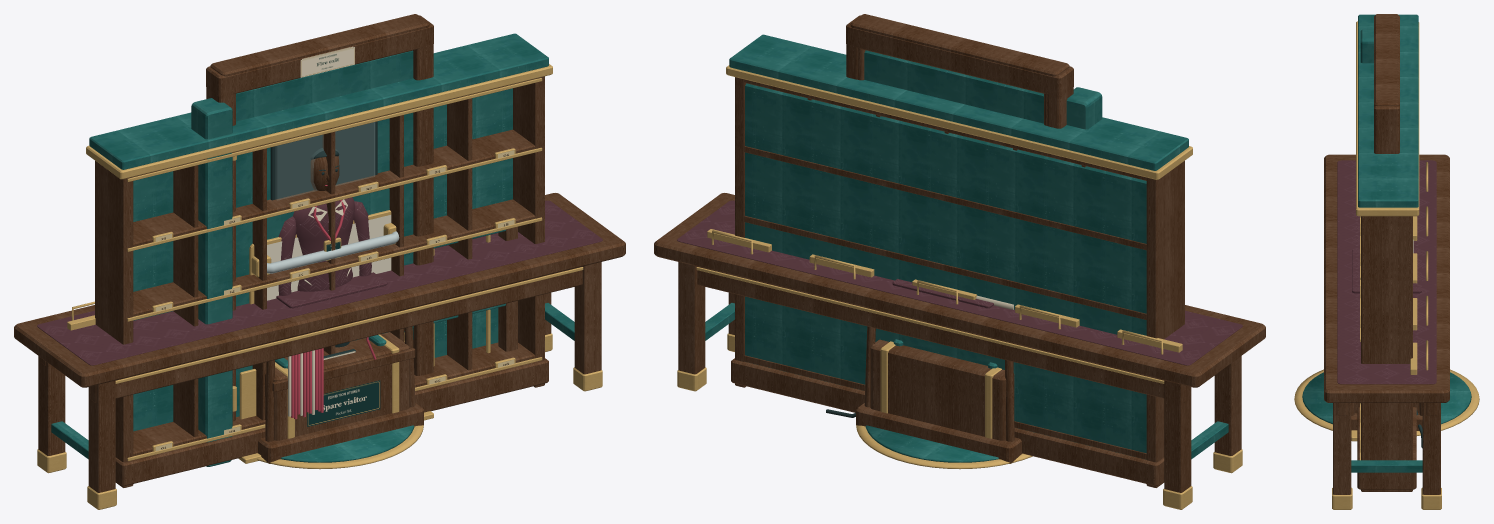
The model's file is visitor-services.glb.
The picture shows the model from 3 angles, left to right: view 1: azimuth 30°, elevation 25°; view 2: azimuth 150°, elevation 25°; view 3: azimuth 270°, elevation 25°; orthographic projection. The views are drawn at different scales.
Visible parts, largest first — view 1: annex_cabinet_body, annex_corrections_desk_body, annex_fire_exit_body, annex_keeper_door_body, annex_crate_body, annex_photo_visitor_body, annex_scarf_body, annex_judge_body, annex_agenda_body, annex_forum_leaf_body, judge_face, annex_display_stand_body (+1 smaller); view 2: annex_cabinet_body, annex_corrections_desk_body, annex_fire_exit_body, annex_crate_body, annex_keeper_door_body, annex_agenda_body, annex_judge_body, annex_scarf_body; view 3: annex_corrections_desk_body, annex_cabinet_body, annex_agenda_body, annex_keeper_door_body, annex_fire_exit_body, annex_display_stand_body.
Part boxes in pixels (box(x1,y1,x2,y2)): annex_cabinet_body: box(86, 33, 552, 487); annex_corrections_desk_body: box(14, 193, 625, 509); annex_fire_exit_body: box(206, 15, 433, 419); annex_keeper_door_body: box(191, 14, 433, 466); annex_crate_body: box(265, 332, 415, 440); annex_photo_visitor_body: box(278, 148, 371, 347); annex_scarf_body: box(265, 326, 415, 441); annex_judge_body: box(249, 210, 423, 463); annex_agenda_body: box(257, 425, 423, 469); annex_forum_leaf_body: box(356, 226, 517, 366); judge_face: box(267, 215, 391, 300); annex_display_stand_body: box(276, 272, 387, 308); annex_cabinet_body: box(726, 34, 1192, 487); annex_corrections_desk_body: box(654, 193, 1265, 509); annex_fire_exit_body: box(846, 15, 1073, 128); annex_crate_body: box(870, 339, 1014, 440); annex_keeper_door_body: box(850, 14, 1102, 129); annex_agenda_body: box(856, 425, 1032, 469); annex_judge_body: box(856, 403, 1022, 463); annex_scarf_body: box(864, 295, 1014, 441); annex_corrections_desk_body: box(1324, 154, 1449, 509); annex_cabinet_body: box(1356, 14, 1419, 491); annex_agenda_body: box(1294, 369, 1479, 435); annex_keeper_door_body: box(1351, 14, 1399, 441); annex_fire_exit_body: box(1374, 16, 1399, 153); annex_display_stand_body: box(1352, 249, 1421, 293).
Size of the model in its own units: 3.35 by 2.25 by 1.1.
14 materials, 9 textured.
